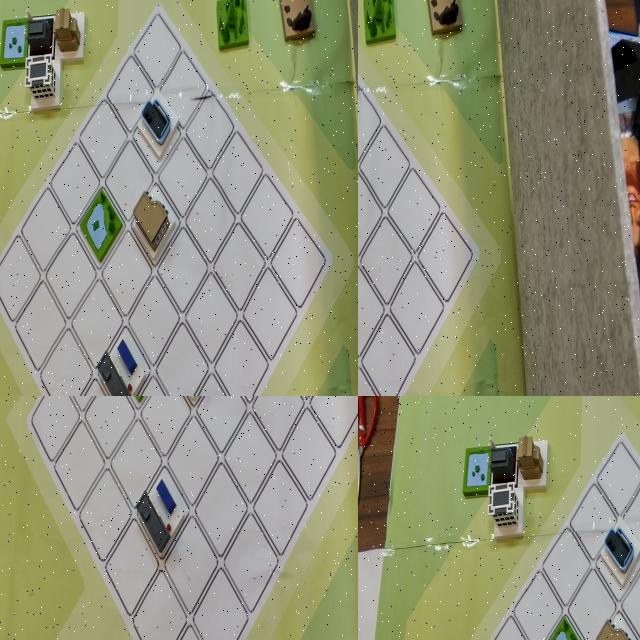bus_stop: (191, 396, 263, 450), (358, 145, 388, 240), (155, 104, 193, 167)
factory: (170, 430, 257, 577), (358, 260, 387, 367), (161, 158, 198, 221), (488, 439, 520, 490)
fish_pool: (275, 396, 336, 431), (460, 443, 493, 499)
forest: (0, 396, 80, 461), (358, 167, 389, 260)
gogo_shop: (595, 511, 640, 590), (358, 153, 389, 258), (294, 396, 358, 438)
research_build: (358, 242, 399, 349), (216, 396, 279, 445), (487, 485, 528, 549), (128, 153, 166, 222)
restaurant: (299, 396, 358, 473), (358, 260, 390, 357), (591, 605, 640, 640)
silicate_rock: (83, 396, 155, 449), (358, 210, 390, 319)
volunteer_center: (168, 396, 234, 451), (358, 52, 388, 152), (516, 430, 550, 498), (165, 214, 201, 270)
wet_land: (126, 220, 166, 294), (358, 58, 386, 145), (0, 396, 42, 452), (541, 605, 587, 640)
